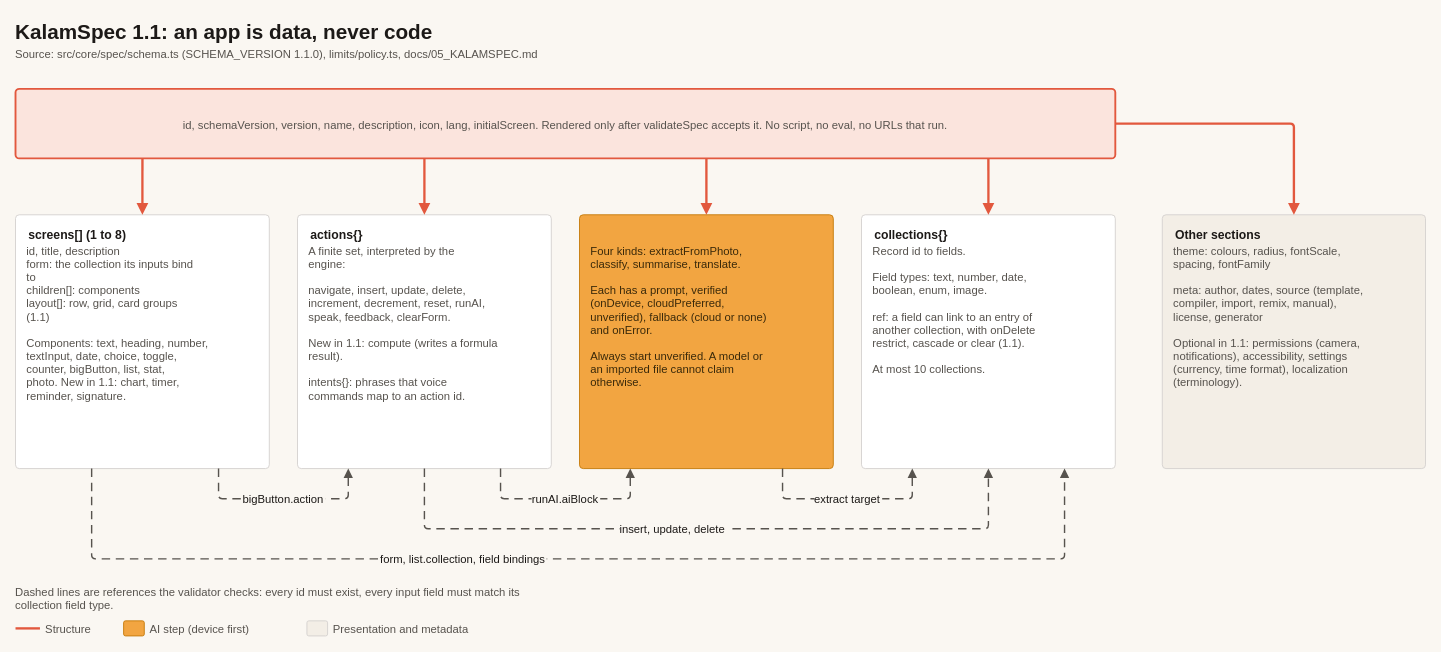
Image size: 1441x652. Some labels were removed from this diagram. Here are the shapes that lost their labels. From the top down, the box of each, then its label:
(14, 87, 1116, 159): KalamSpec 1.1.0 (one JSON document, at most 100 KB)
(579, 214, 833, 469): aiBlocks{}
